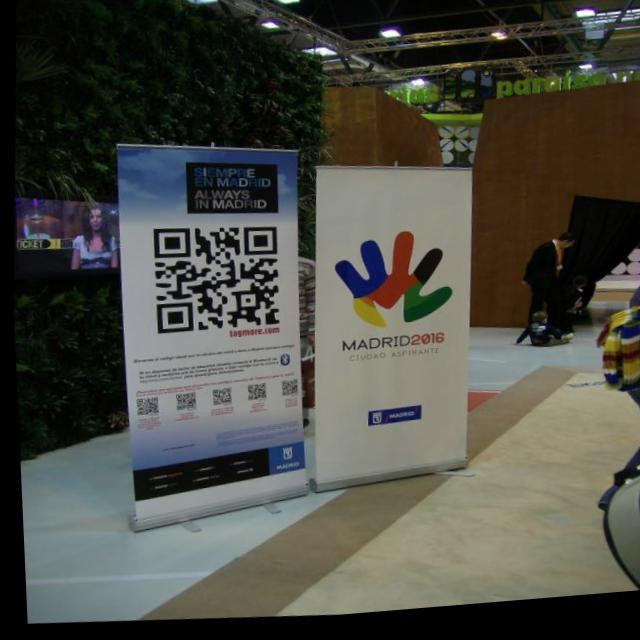qrcode: (146, 224, 282, 344), (132, 400, 156, 418), (174, 396, 194, 414), (209, 392, 229, 410), (245, 389, 264, 406), (278, 384, 296, 401)
